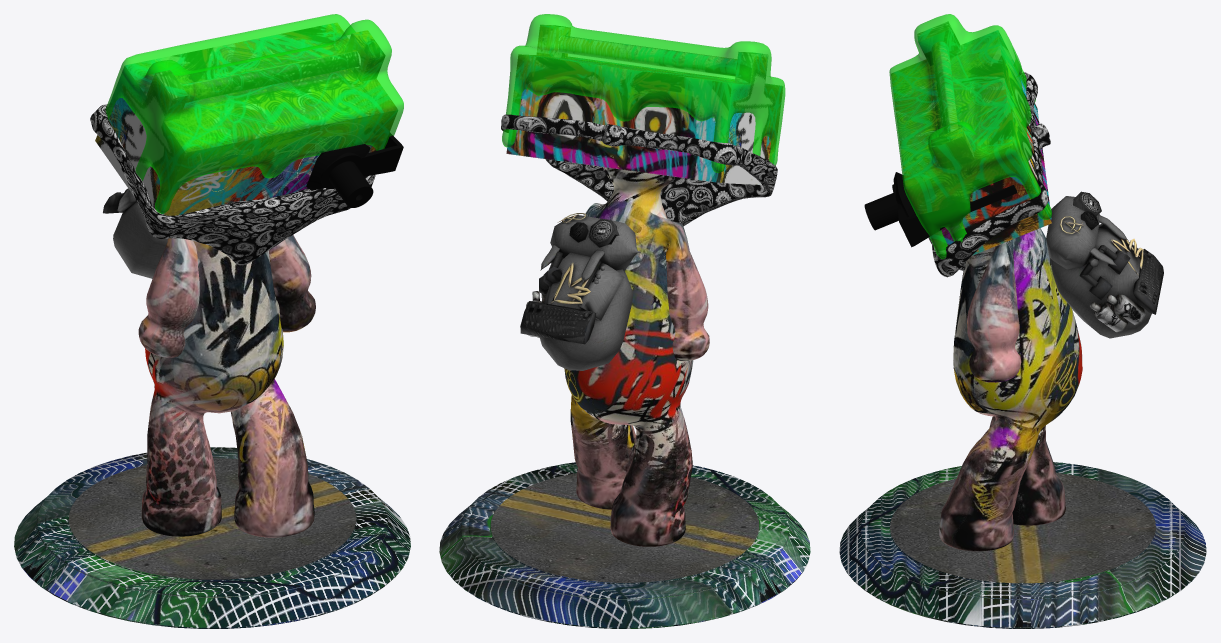
3 renders of one model, left to right at view 1: azimuth 30°, elevation 25°; view 2: azimuth 150°, elevation 25°; view 3: azimuth 270°, elevation 25°, orthographic. The views are drawn at different scales.
Size of the model in its own units: 1.45 by 2.15 by 1.45.
8 materials, 6 textured.
